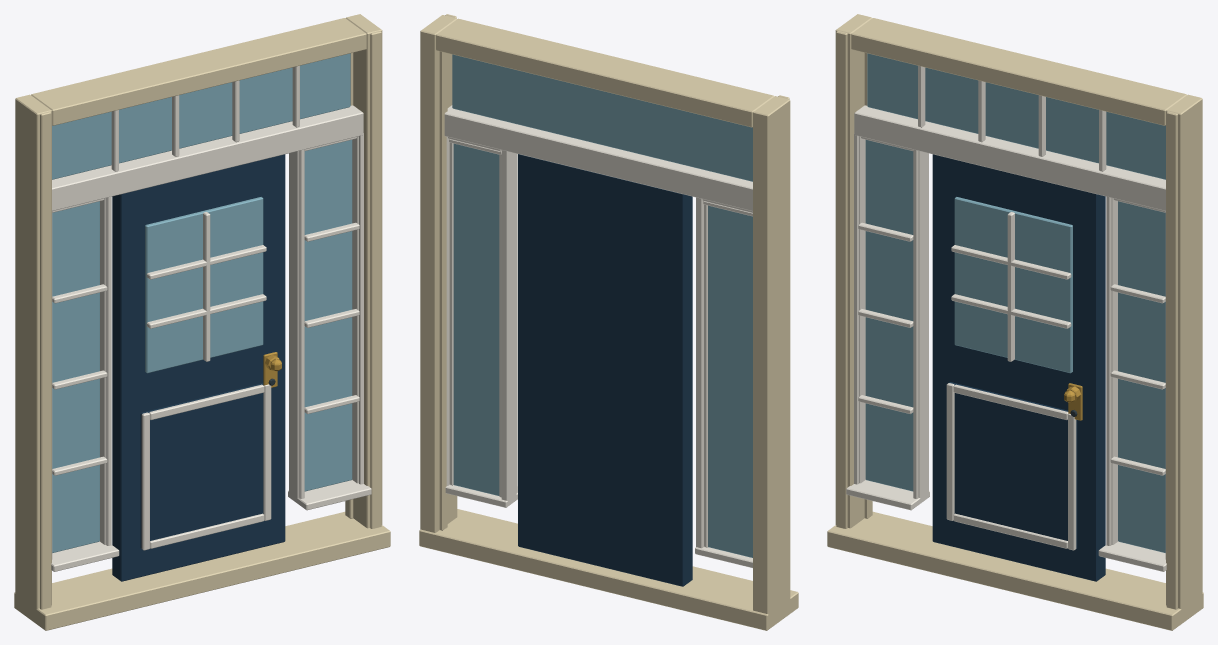
The model's file is b12_sidelight_transom_entry.glb.
The picture shows the model from 3 angles, left to right: view 1: azimuth 30°, elevation 25°; view 2: azimuth 150°, elevation 25°; view 3: azimuth 330°, elevation 25°; orthographic projection.
Parts seen in each view (by area): view 1: b12_sidelight_transom_entry; view 2: b12_sidelight_transom_entry; view 3: b12_sidelight_transom_entry.
Boxes of the visible parts, x1,y1,x2,y2 form: b12_sidelight_transom_entry: (14, 14, 390, 630); b12_sidelight_transom_entry: (419, 14, 798, 630); b12_sidelight_transom_entry: (827, 14, 1203, 630).
Bounding box in the file's own units: 1.89 × 2.67 × 0.3.
